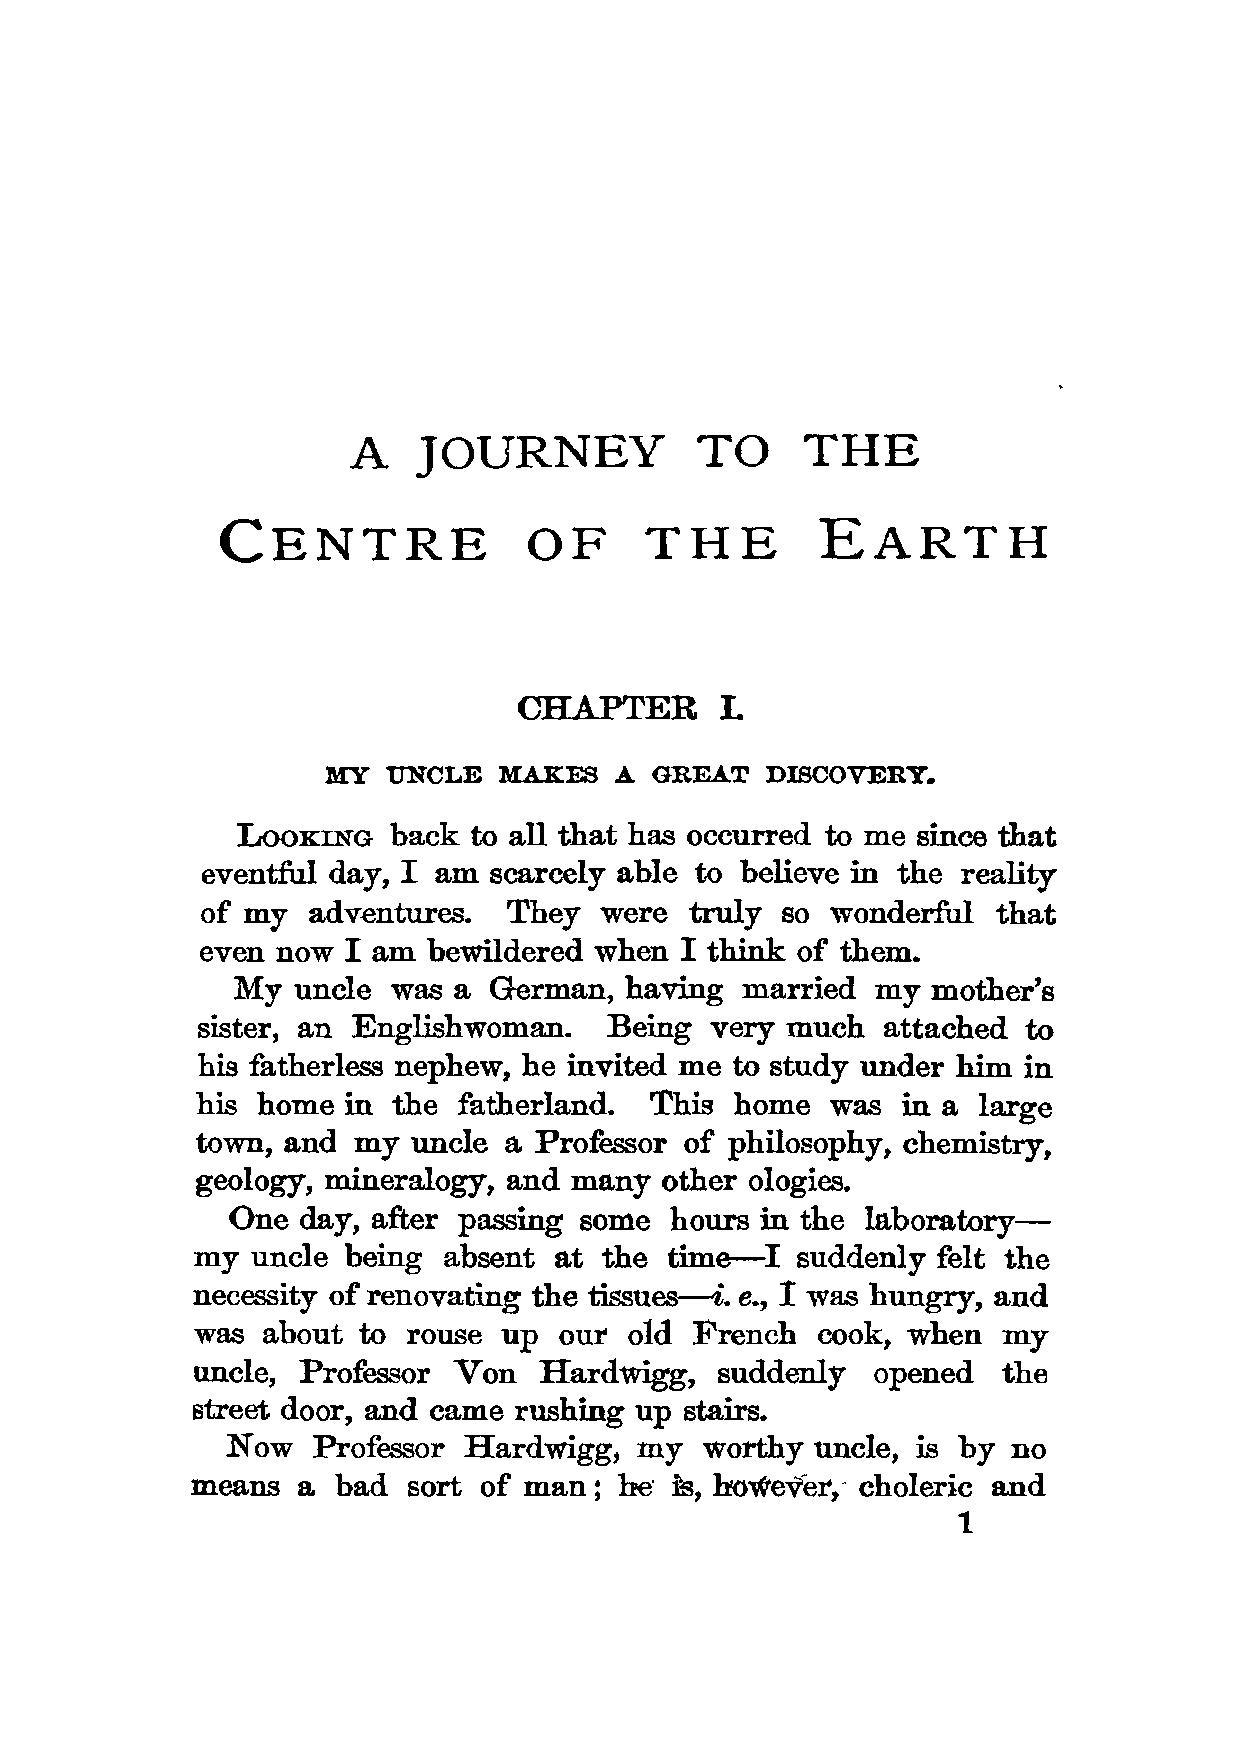chapter: (216, 433, 1048, 564), (323, 692, 935, 785)
content: (191, 820, 1055, 1504)
content_pagenumber: (955, 1508, 973, 1537)
